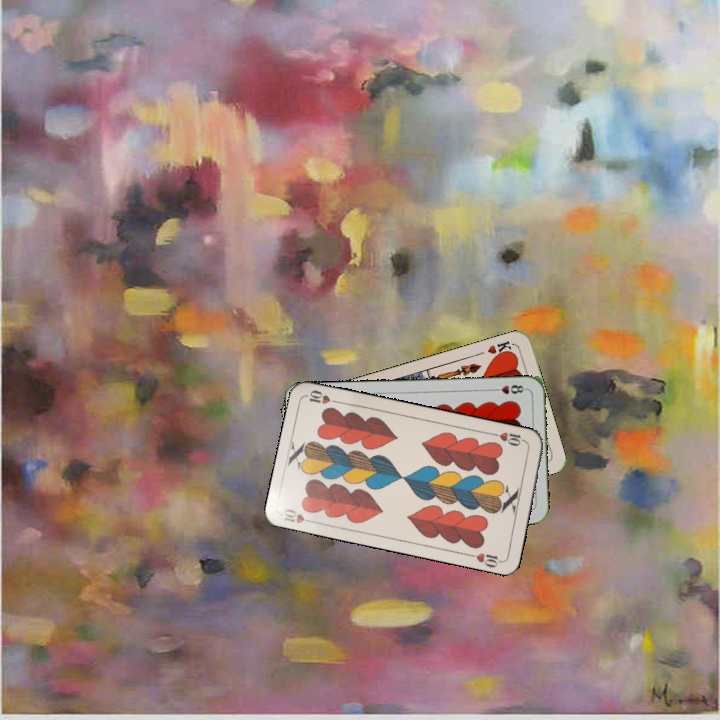H10: (489, 428, 529, 449), (280, 505, 319, 526)
H8: (488, 381, 529, 397)
HK: (483, 337, 516, 360)
